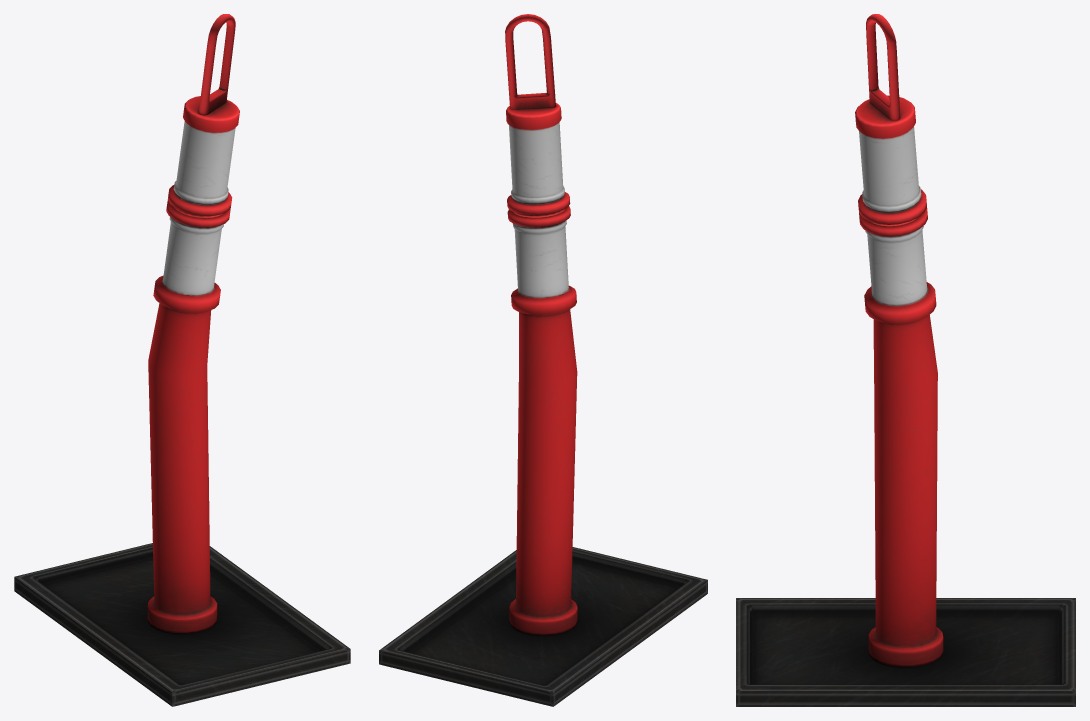
Rendered from Pylons_B_VarA.fbx.
3 views of the same model, side by side, from view 1: azimuth 30°, elevation 25°; view 2: azimuth 150°, elevation 25°; view 3: azimuth 270°, elevation 25° (orthographic). The views are drawn at different scales.
Visible parts, largest first — view 1: Pylons_B_VarA_LOD0; view 2: Pylons_B_VarA_LOD0; view 3: Pylons_B_VarA_LOD0.
Part boxes in pixels (x1=…): Pylons_B_VarA_LOD0: x1=14, y1=14, x2=350, y2=706; Pylons_B_VarA_LOD0: x1=379, y1=14, x2=707, y2=706; Pylons_B_VarA_LOD0: x1=736, y1=14, x2=1075, y2=706.
Size of what is drawn, in the model's own units: 36.66 by 121 by 56.32.
